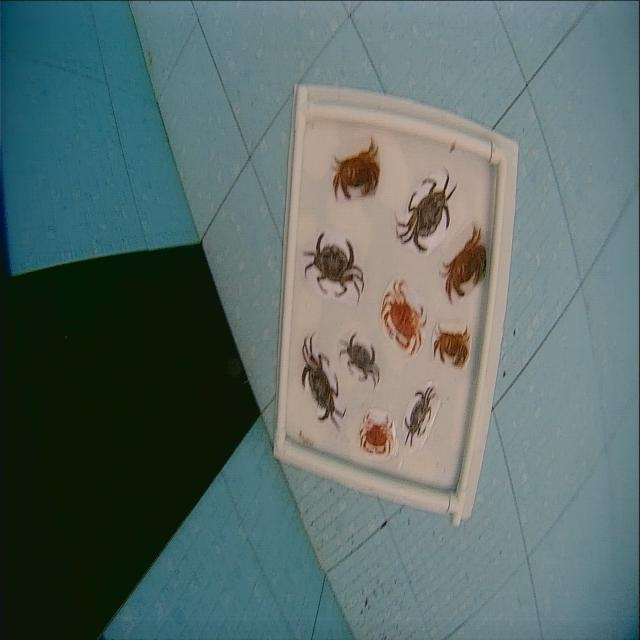GreenCrab: (303, 232, 364, 303), (302, 334, 346, 430), (405, 172, 457, 251), (339, 332, 380, 389), (405, 386, 434, 445)
